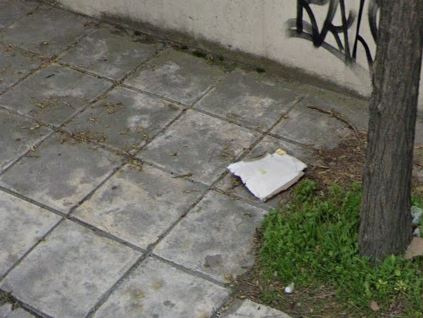trash: (222, 141, 312, 211)
